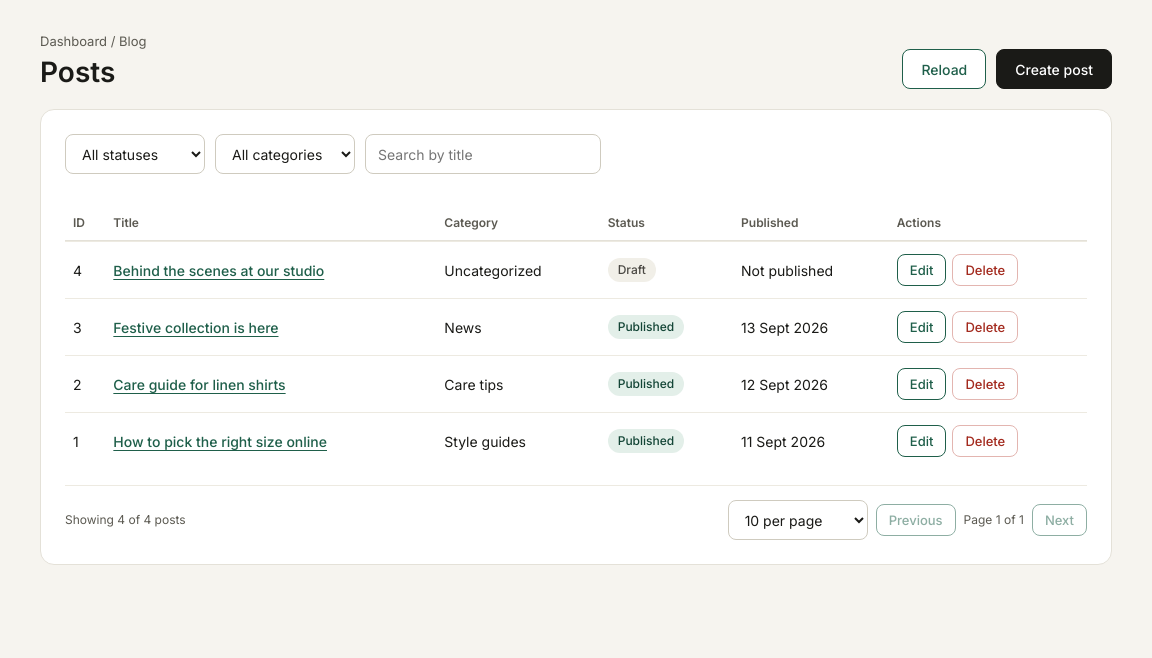
Test: Posts › asks before leaving with unsaved changes
This screenshot has width=1152, height=658.
Click the button "Create post" at {"x": 1054, "y": 69}, box [996, 49, 1112, 89]
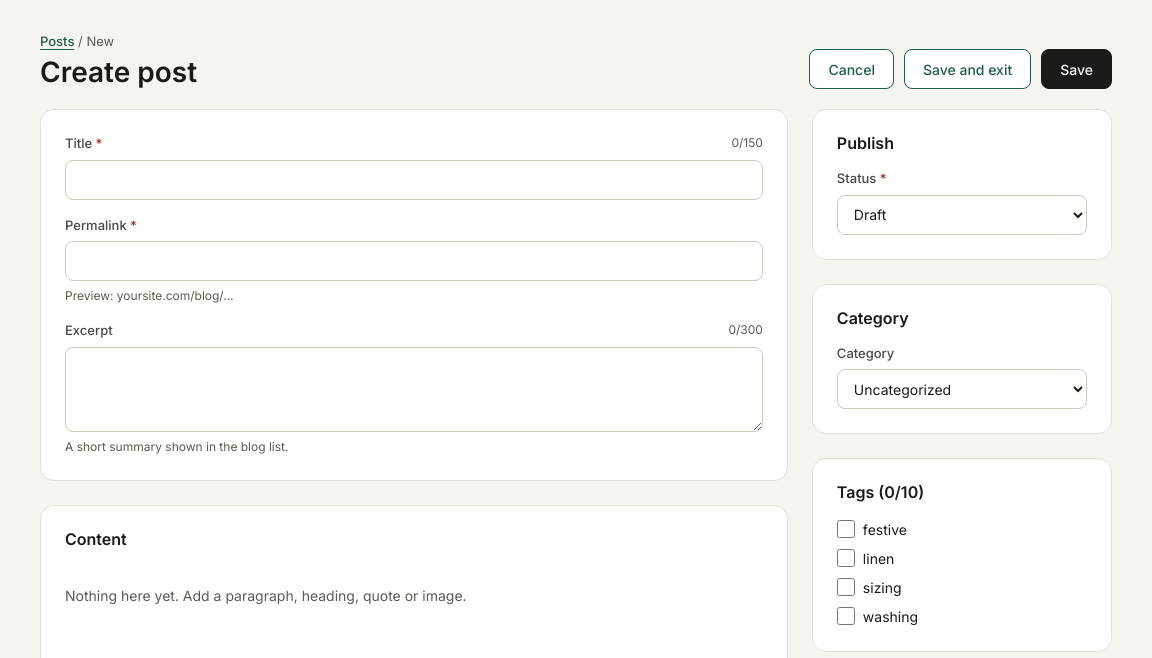
Type "Draft" into the field labelled "Title *" at {"x": 414, "y": 180}, box [65, 160, 763, 200]
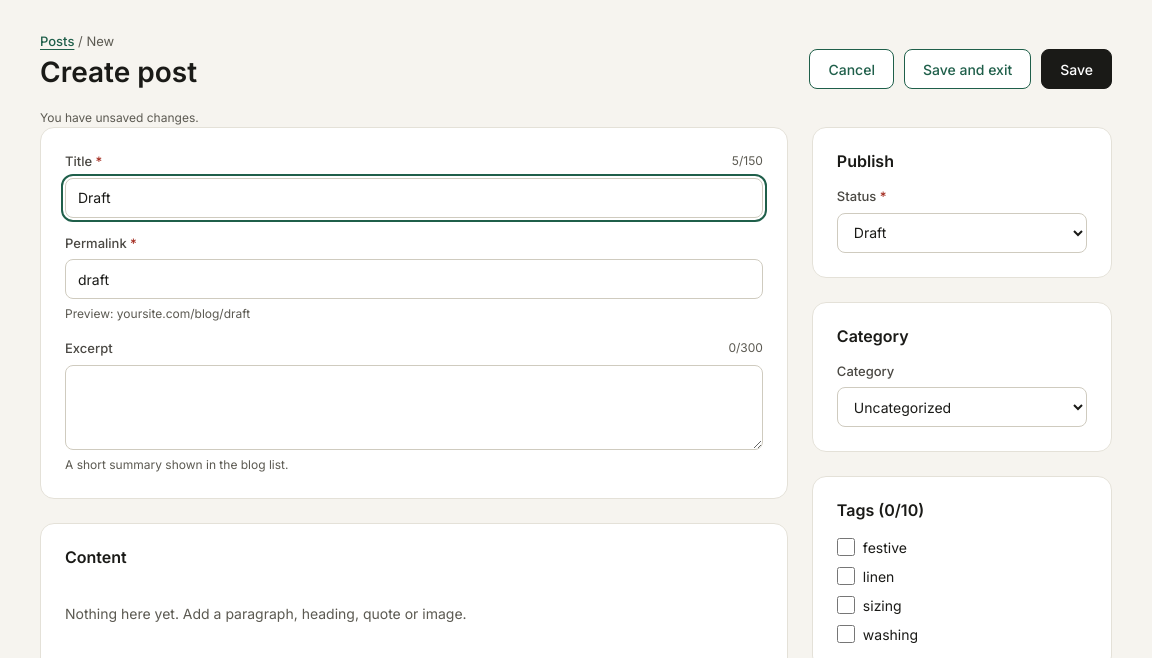
Click the button "Cancel" at {"x": 852, "y": 69}, box [809, 49, 894, 89]
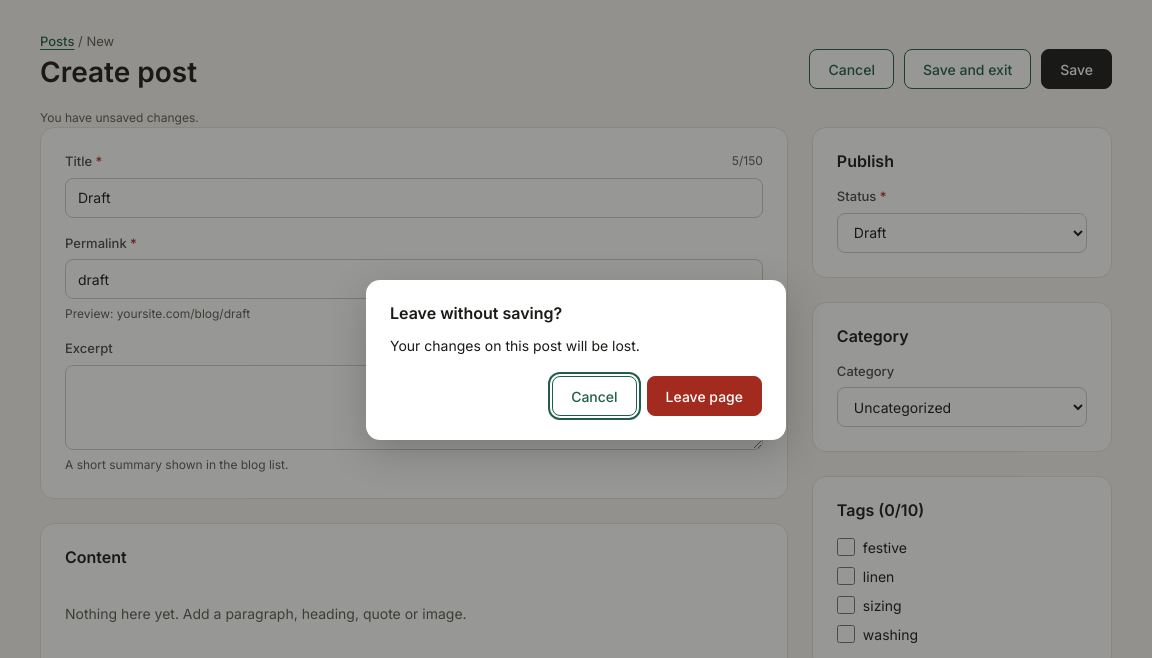
Click the button "Leave page" at {"x": 704, "y": 396}, box [647, 376, 762, 416]
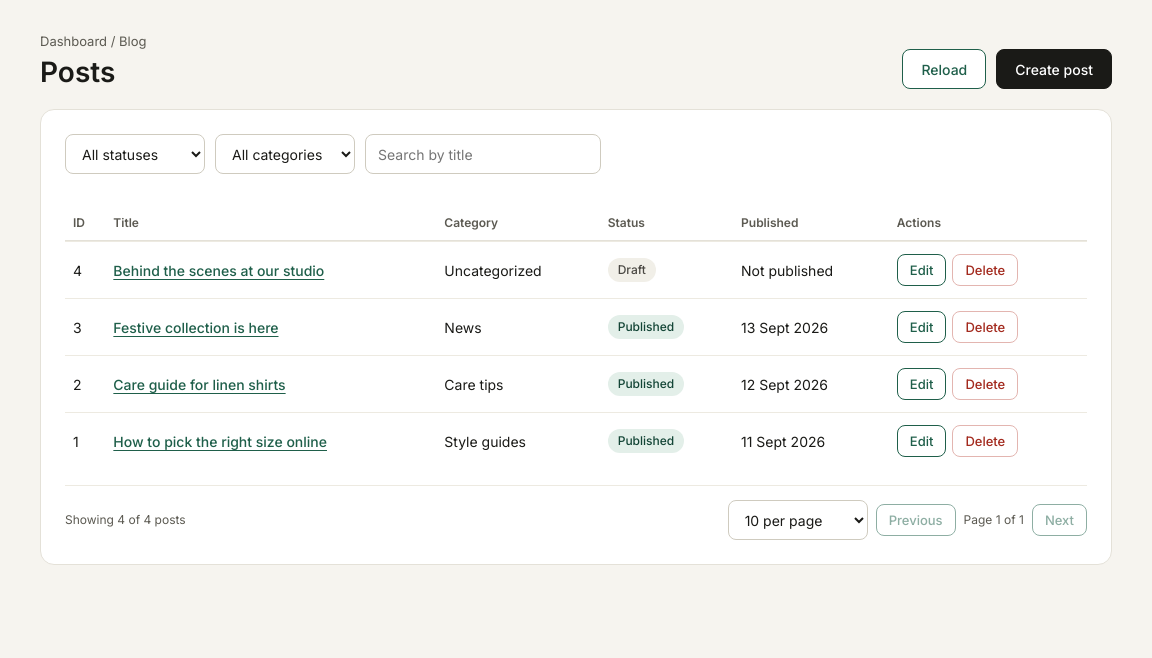
Now the heading "Posts" is shown, box [40, 54, 115, 88]
